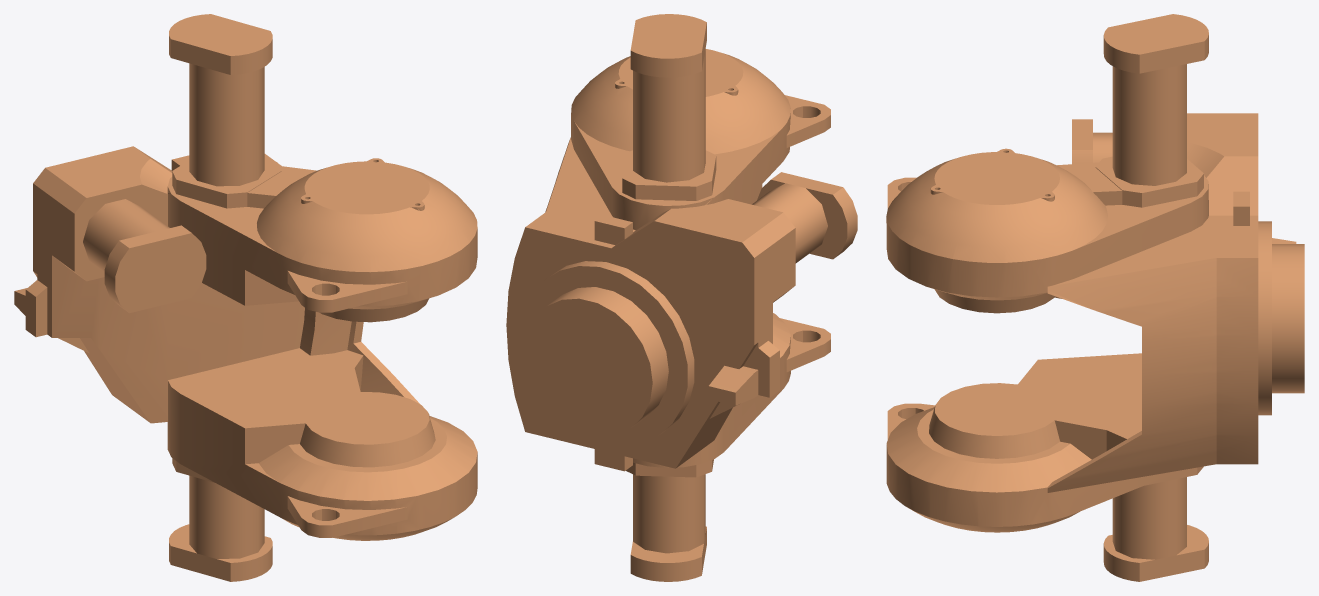
The picture shows the model from 3 angles, left to right: view 1: azimuth 30°, elevation 25°; view 2: azimuth 150°, elevation 25°; view 3: azimuth 270°, elevation 25°; orthographic projection.
Parts seen in each view (by area): view 1: IRB2400_16_m2000_rev4_01-2; view 2: IRB2400_16_m2000_rev4_01-2; view 3: IRB2400_16_m2000_rev4_01-2.
Part boxes in pixels (x1,y1,x2,y2): IRB2400_16_m2000_rev4_01-2: (14,14,477,581); IRB2400_16_m2000_rev4_01-2: (506,14,857,581); IRB2400_16_m2000_rev4_01-2: (886,14,1304,581).
Bounding box in the file's own units: 0.5157 × 0.833 × 0.5987.
